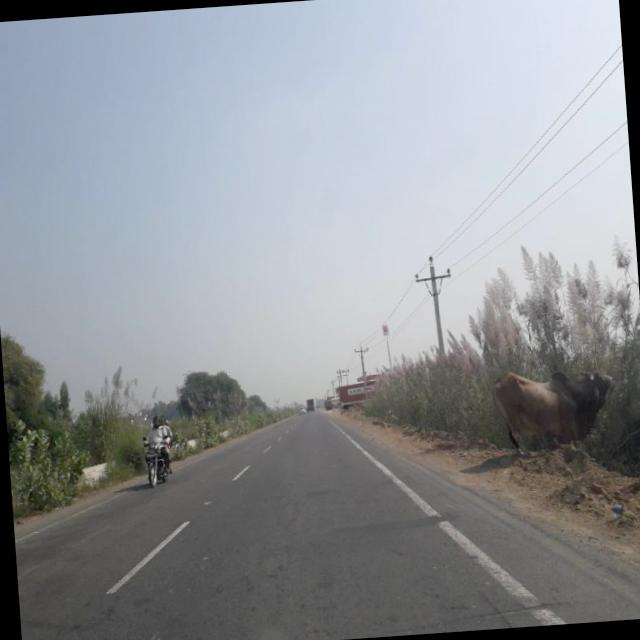crack: (441, 588, 578, 625)
